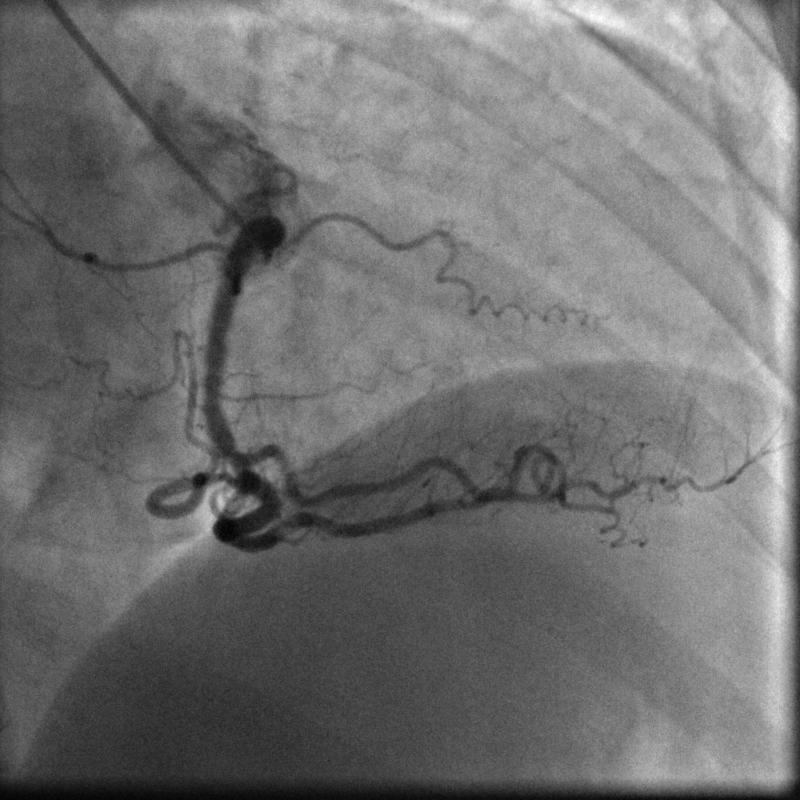Stenosis: (214, 443, 259, 487)
